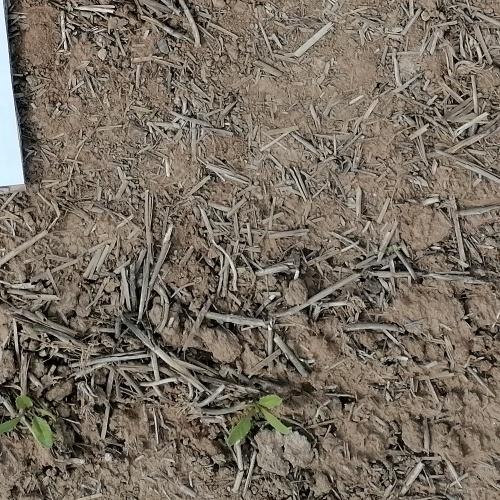beet: (225, 394, 289, 452), (0, 394, 58, 450)
